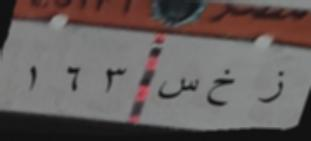1: (23, 59, 41, 100)
3: (102, 63, 128, 98)
6: (64, 62, 83, 97)
khaa: (205, 62, 236, 114)
seen: (156, 72, 200, 107)
zay: (256, 64, 286, 110)
